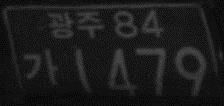1: (73, 47, 93, 95)
4: (104, 47, 138, 98), (141, 10, 163, 38)
7: (134, 45, 168, 101)
8: (113, 10, 139, 39)
9: (174, 45, 208, 99)
가: (24, 48, 59, 88)
광주_O: (46, 10, 104, 40)
